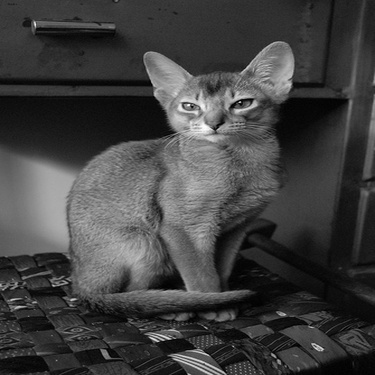cat: (67, 39, 296, 325)
